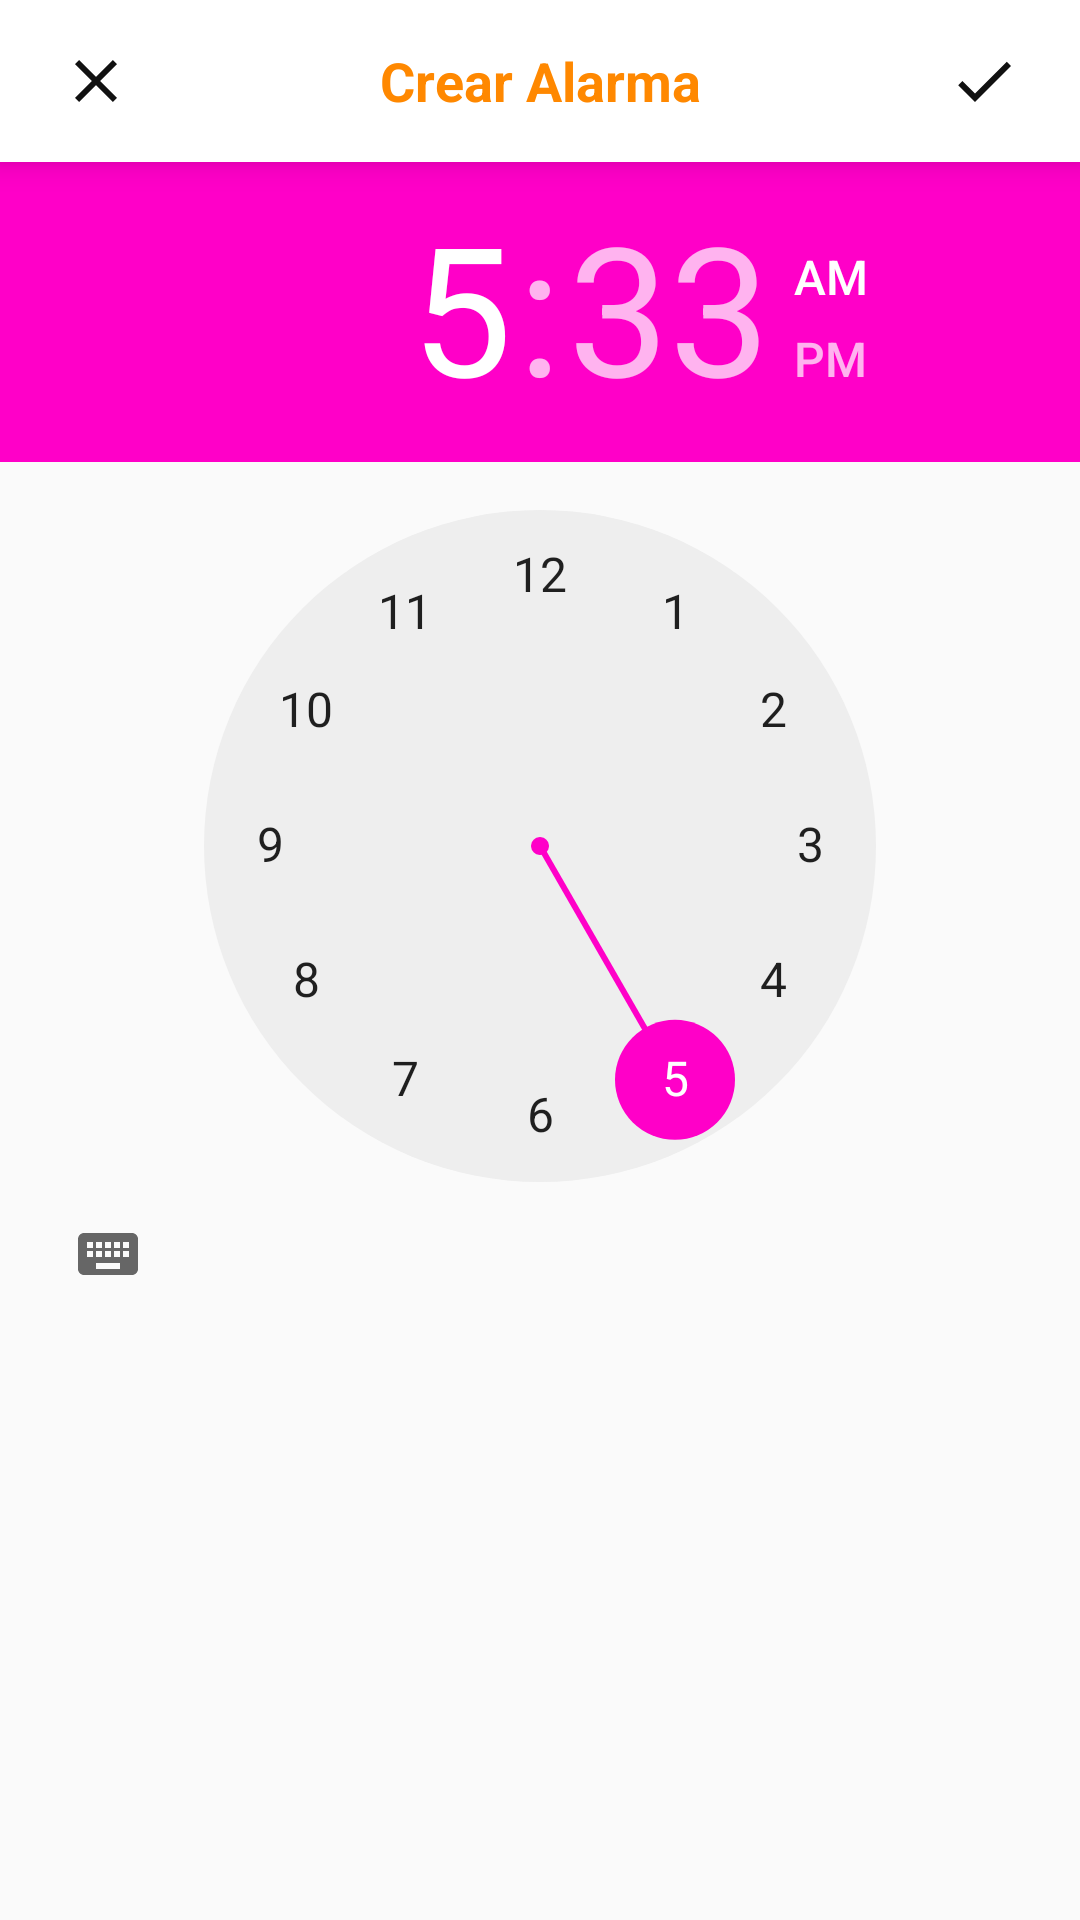

Where to tap for icons on this 1080px x 1920px app screen, as [x,y]:
close: [96,81]
done: [984,82]
